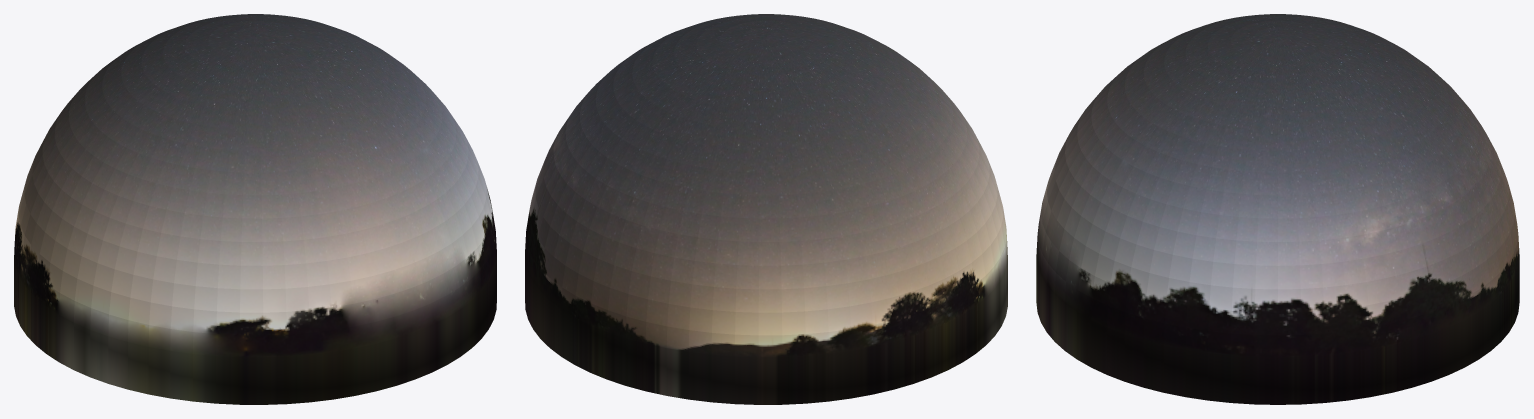
Rendered from skybox.obj.
3 renders of one model, left to right at view 1: azimuth 30°, elevation 25°; view 2: azimuth 150°, elevation 25°; view 3: azimuth 270°, elevation 25°, orthographic.
Parts seen in each view (by area): view 1: Sphere; view 2: Sphere; view 3: Sphere.
Boxes of the visible parts, box(x1,y1,x2,y2) form: Sphere: box(14, 14, 496, 404); Sphere: box(525, 14, 1007, 404); Sphere: box(1036, 14, 1519, 404).
Bounding box in the file's own units: 2 × 1.22 × 2.
Materials: 1 (1 with a texture image).
